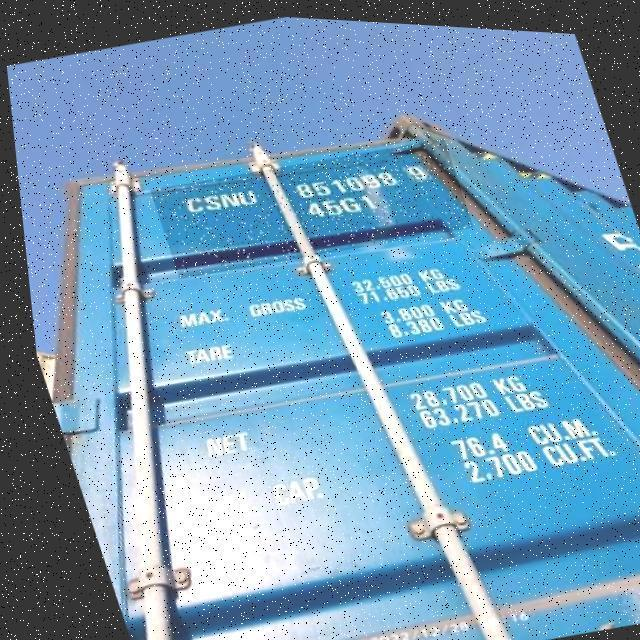container_number_h: (141, 119, 474, 291)
